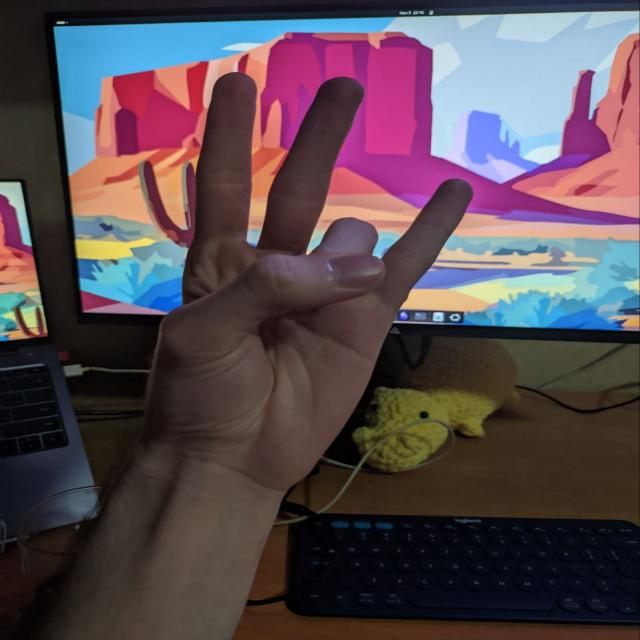n: (149, 53, 490, 432)
